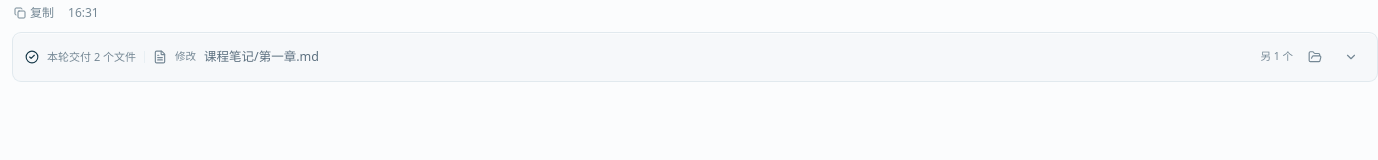
Test: MessageFooter › shows a compact delivery receipt with real file actions
The image size is (1378, 160).
Check: the text "本轮交付 2 个文件" is shown, box 47,49 -> 136,65
Check: the text "另 1 个" is shown, box 1260,49 -> 1293,65
Click the button with aria-label "预览 课程笔记/第一章.md". click: (261, 56)
box: 204,48 -> 1252,66
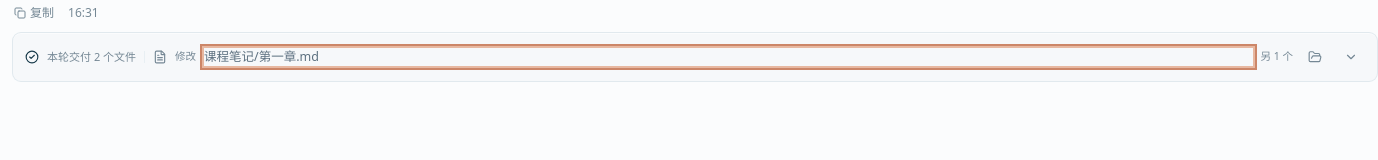
Click the button named "在文件夹中显示 课程笔记/第一章.md". click: (1315, 57)
box: 1301,43 -> 1329,71
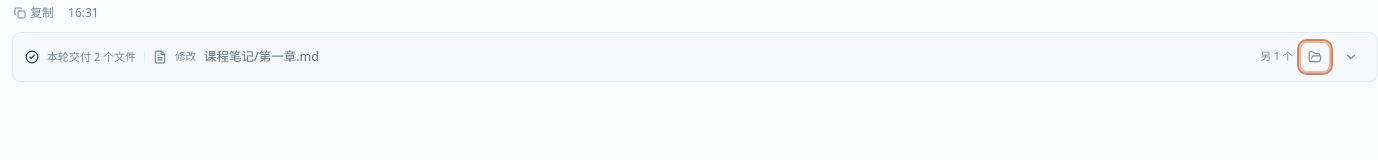
Click the button named "查看文件变化". click: (1351, 57)
box: 1337,43 -> 1365,71
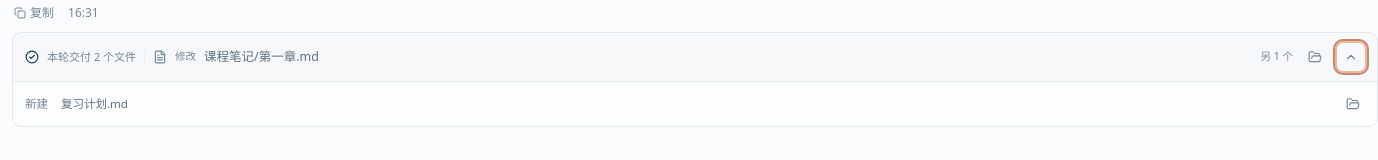
Check: the button "复习计划.md" is shown, box 61,95 -> 1333,113
